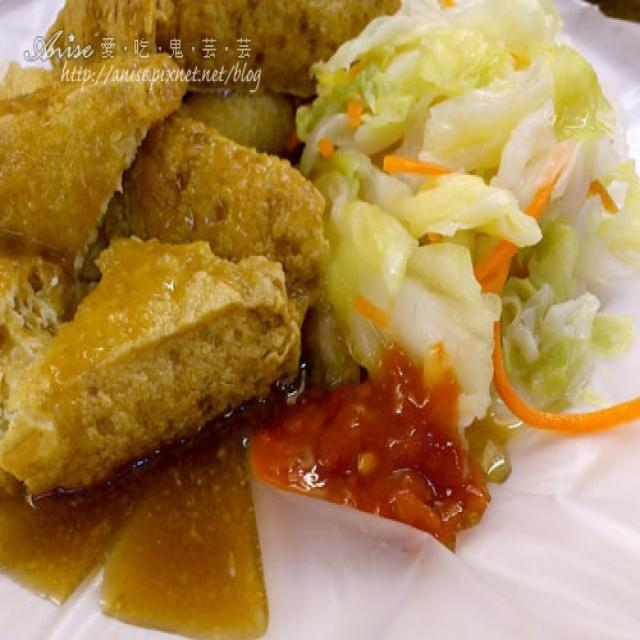豆腐料理: (9, 4, 623, 613)
